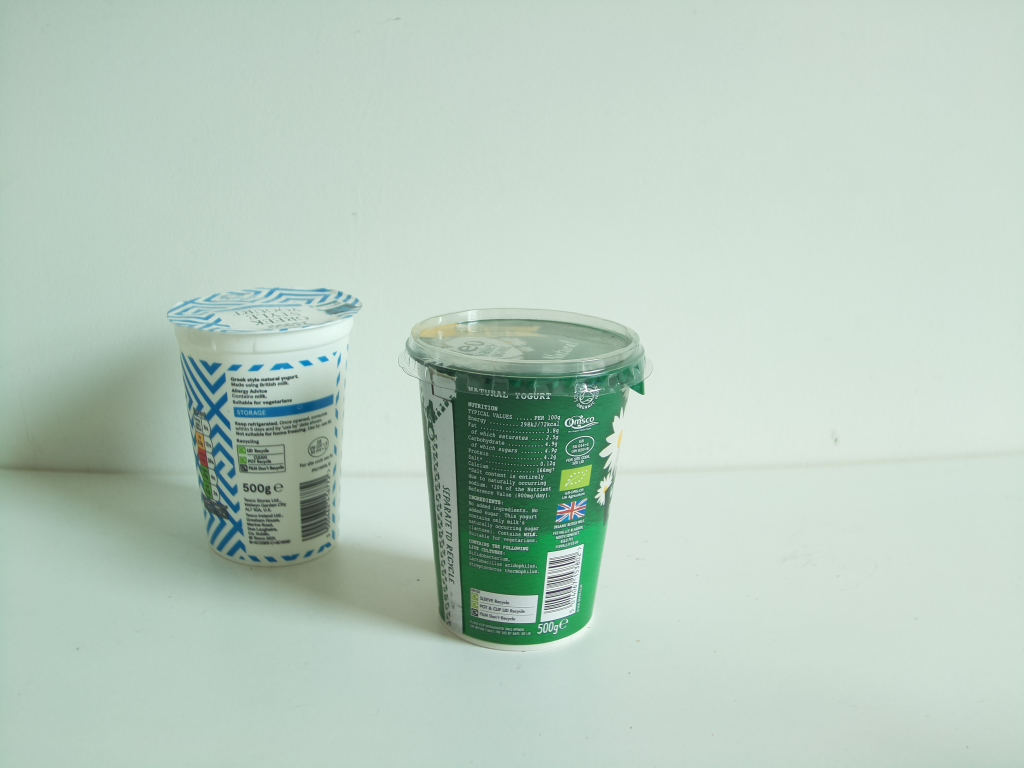yogurt: (391, 301, 649, 652), (168, 282, 368, 566)
